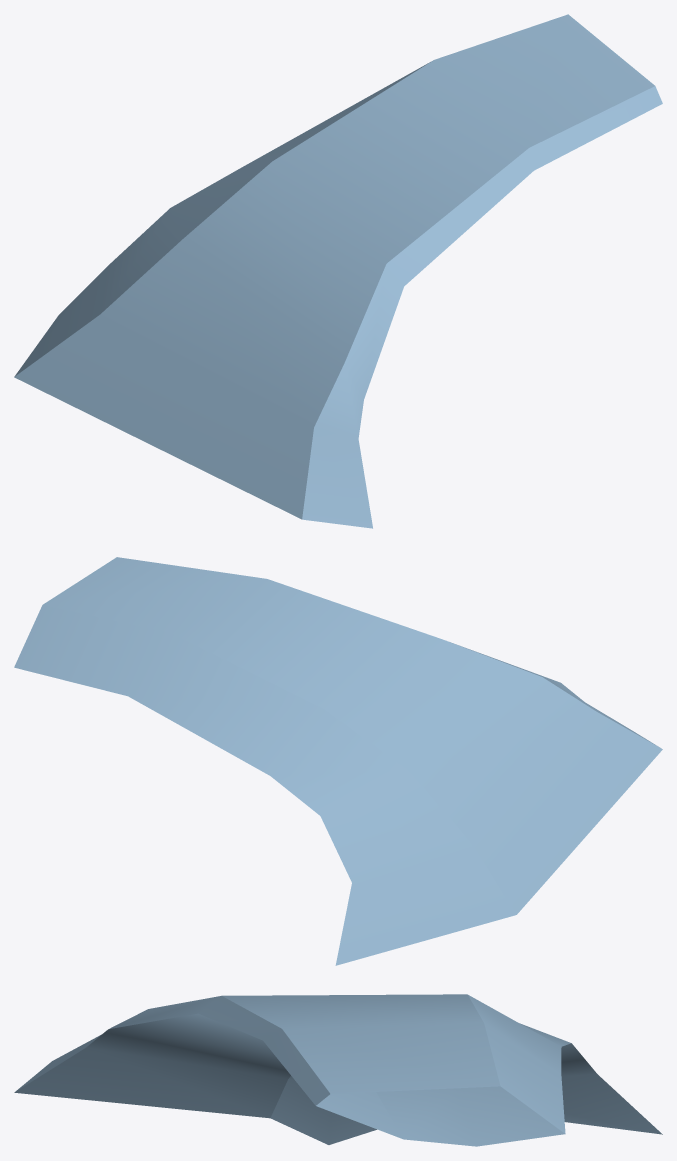
Rendered from probe holder R.FBX.
The picture shows the model from 3 angles, top to bottom: view 1: azimuth 30°, elevation 25°; view 2: azimuth 150°, elevation 25°; view 3: azimuth 270°, elevation 25°; orthographic projection. The views are drawn at different scales.
Parts seen in each view (by area): view 1: Object15; view 2: Object15; view 3: Object15.
Boxes of the visible parts, <box> form: Object15: <box>14,14,662,528</box>; Object15: <box>14,557,662,965</box>; Object15: <box>14,994,662,1146</box>.
Bounding box in the file's own units: 0.0732 × 0.076 × 0.0325.
